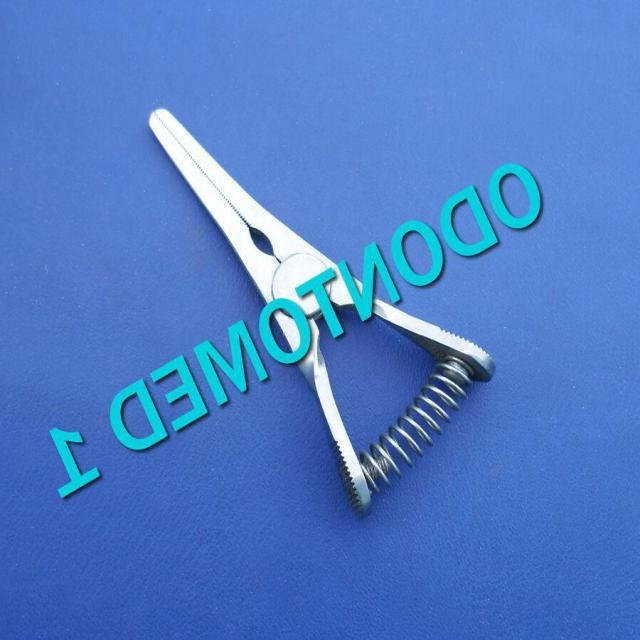Bulldog: (142, 102, 497, 520)
